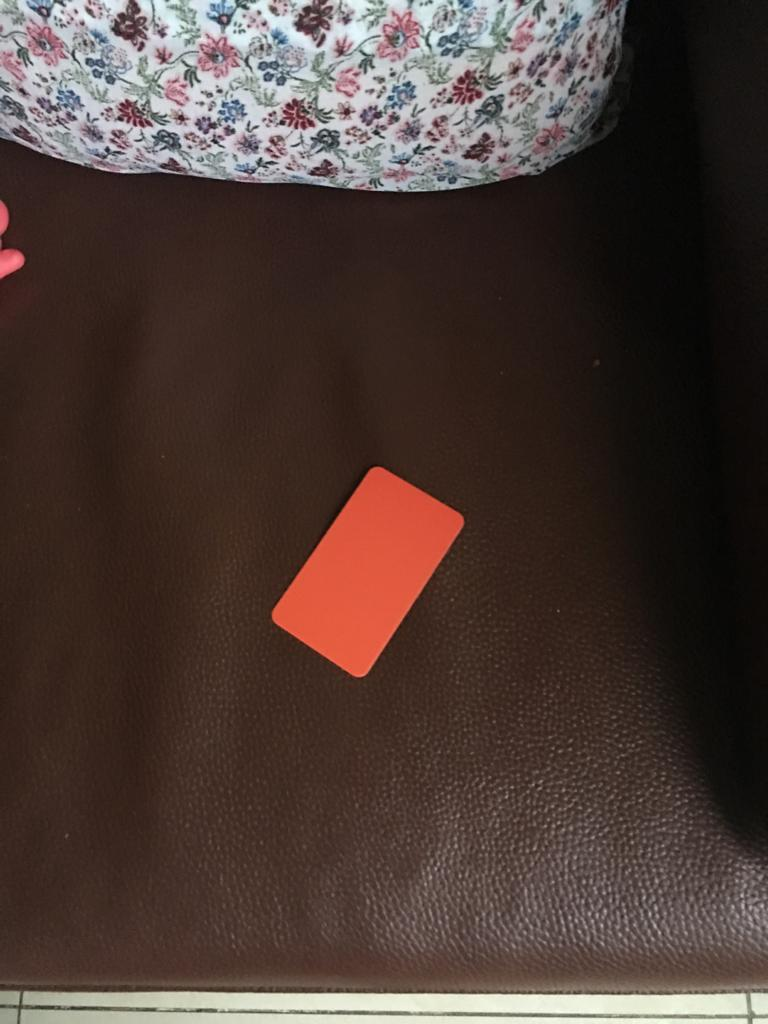red: (263, 448, 480, 697)
